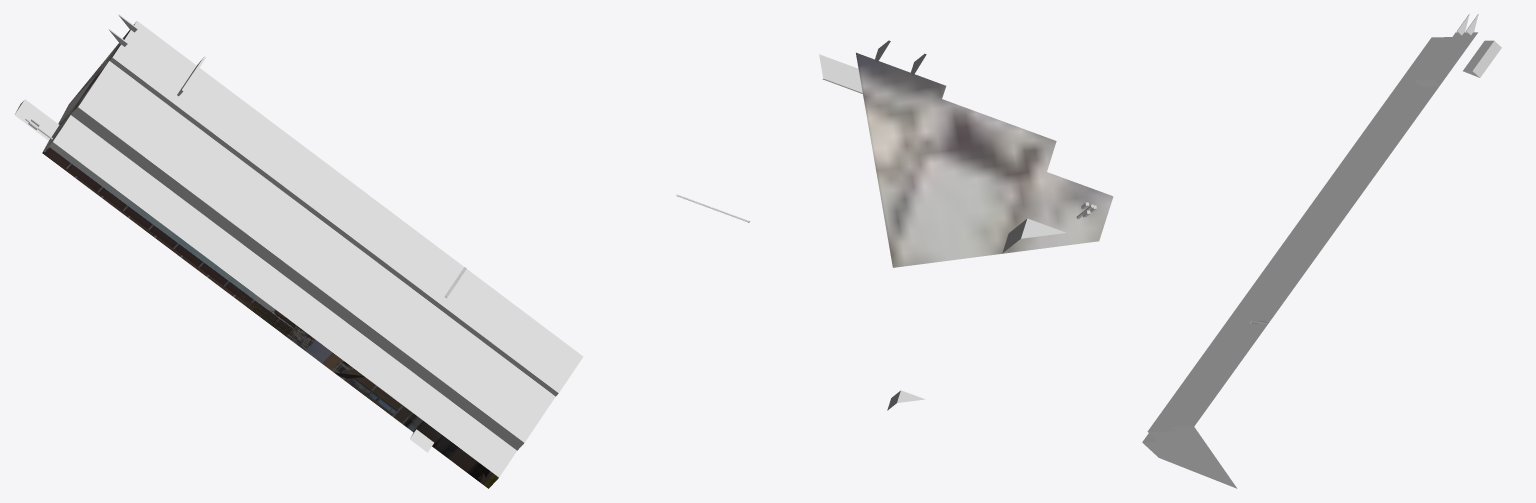
File: 39950_bldg_Building.glb
The picture shows the model from 3 angles, left to right: view 1: azimuth 30°, elevation 25°; view 2: azimuth 150°, elevation 25°; view 3: azimuth 270°, elevation 25°; orthographic projection. The views are drawn at different scales.
Size of the model in its own units: 62.42 by 57.05 by 54.88.
2 materials, 1 textured.
